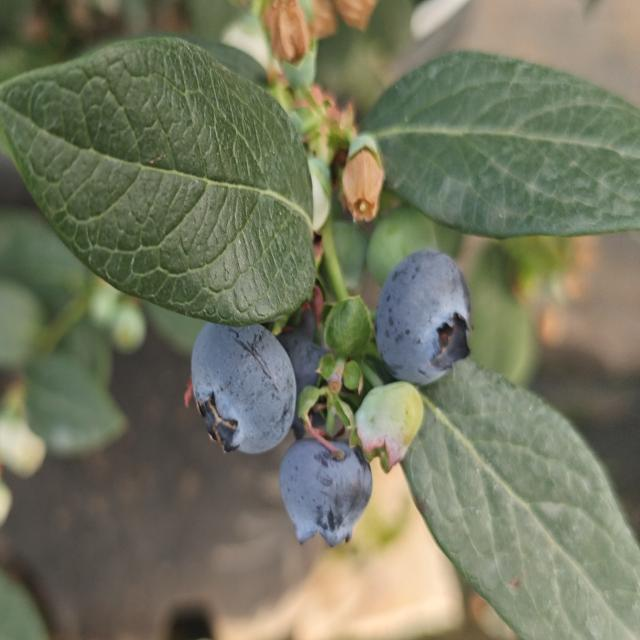ripe: (184, 296, 298, 459), (366, 238, 478, 385), (274, 436, 378, 555), (267, 282, 346, 430)
